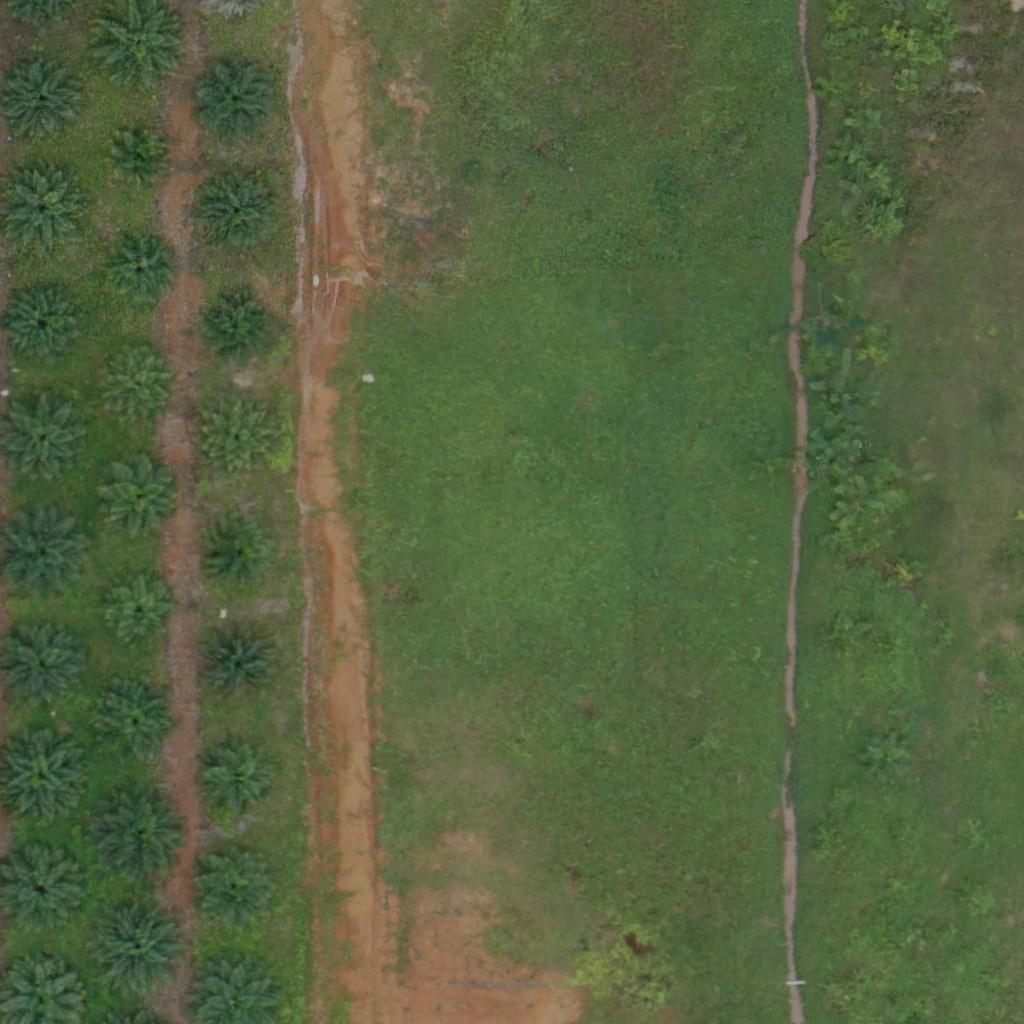Kelapa_Sawit: (94, 897, 194, 998), (90, 786, 190, 886), (2, 283, 90, 372), (192, 741, 280, 829), (191, 58, 279, 146), (192, 169, 280, 257), (95, 678, 183, 766), (93, 450, 180, 538), (196, 622, 283, 710), (192, 842, 279, 930), (106, 234, 181, 309), (104, 576, 179, 651), (196, 397, 271, 472), (203, 289, 278, 364), (98, 345, 173, 420), (201, 520, 264, 583), (108, 129, 171, 192)
